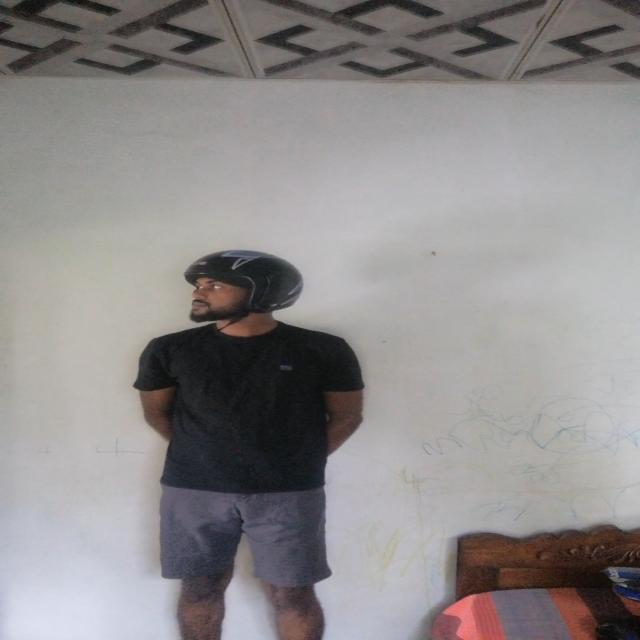Helmet_Wearer: (172, 247, 308, 353)
Person: (108, 252, 391, 640)
